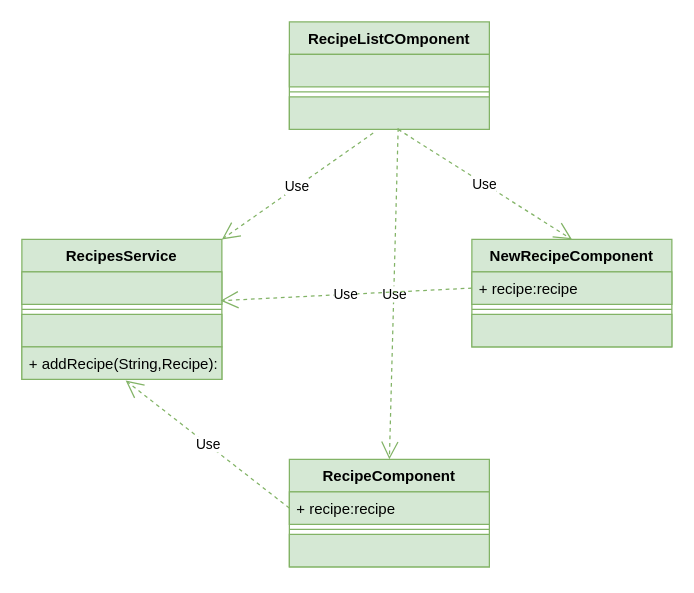
Image size: 694x593. Some labels were removed from this diagram. The centre of each missing label's shape, as x and y in pixels:
"+ add(Recipe):" goes at point 571,330.
"+ deleteRecipe(Recipe)" goes at point 388,550.
"+ getRecipes(String):Recipe[]" goes at point 121,330.
"+ recipes:recipe[]" goes at point 388,70.
